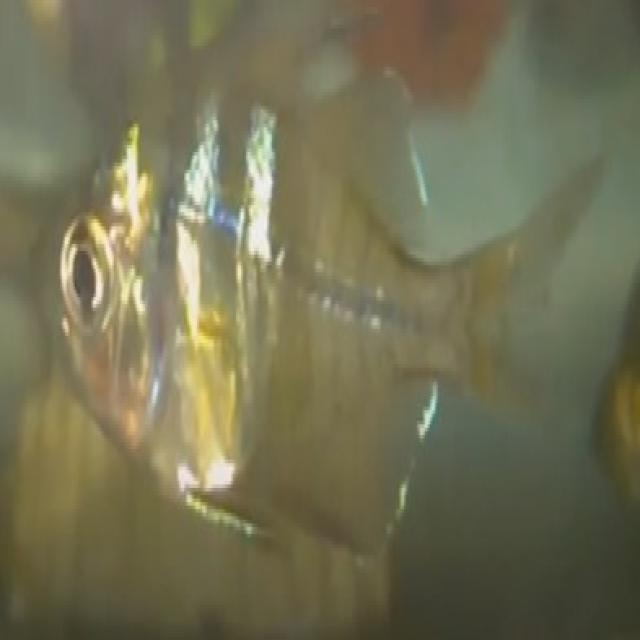Glass-Perchlet: (23, 2, 640, 591)
